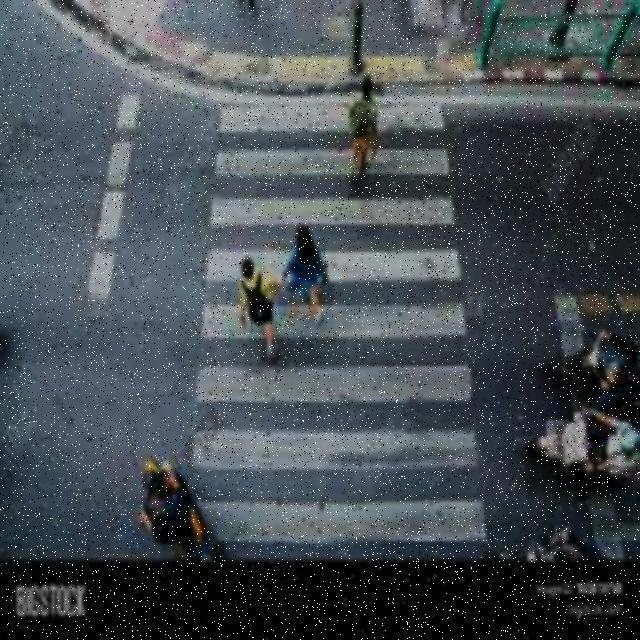Pedestrian crosswalk: (179, 76, 533, 567)
